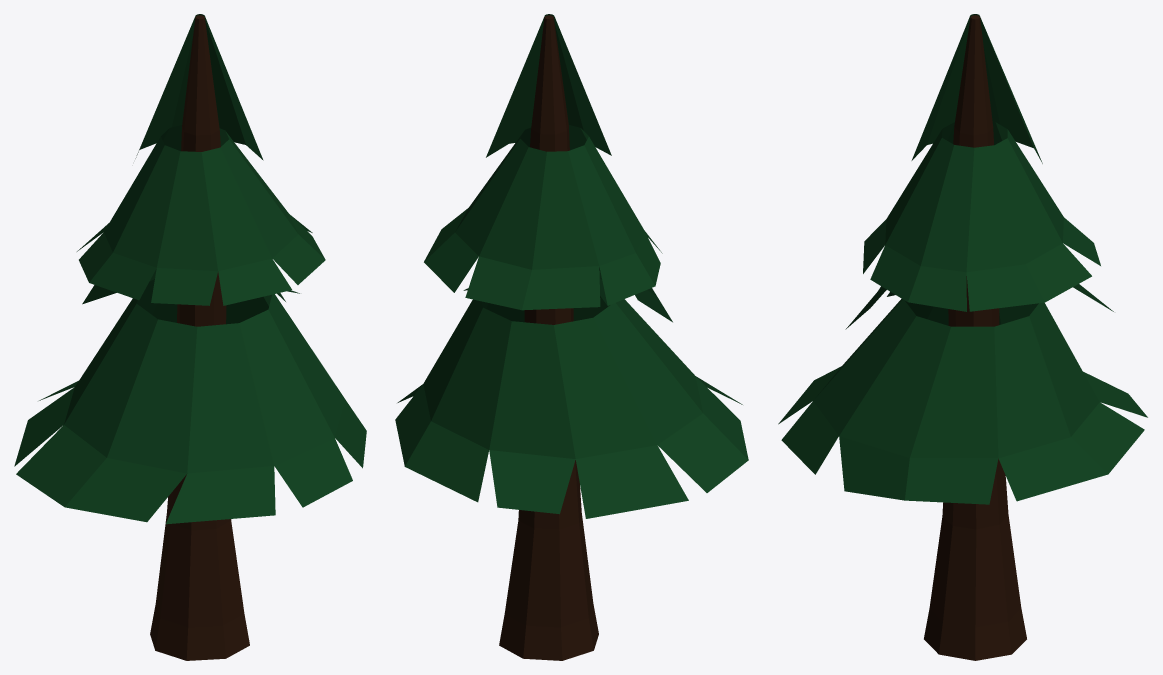
File: PineTreeModel.obj
The picture shows the model from 3 angles, left to right: view 1: azimuth 30°, elevation 25°; view 2: azimuth 150°, elevation 25°; view 3: azimuth 270°, elevation 25°; orthographic projection.
Visible parts, largest first — view 1: Circle_Material.001, Cylinder_Material.002; view 2: Circle_Material.001, Cylinder_Material.002; view 3: Circle_Material.001, Cylinder_Material.002.
Boxes of the visible parts, x1,y1,x2,y2 form: Circle_Material.001: (14, 14, 366, 524); Cylinder_Material.002: (150, 15, 249, 660); Circle_Material.001: (395, 14, 748, 518); Cylinder_Material.002: (499, 15, 598, 660); Circle_Material.001: (778, 14, 1147, 504); Cylinder_Material.002: (924, 15, 1026, 660).
Bounding box in the file's own units: 4.84 × 9.1 × 4.91.
